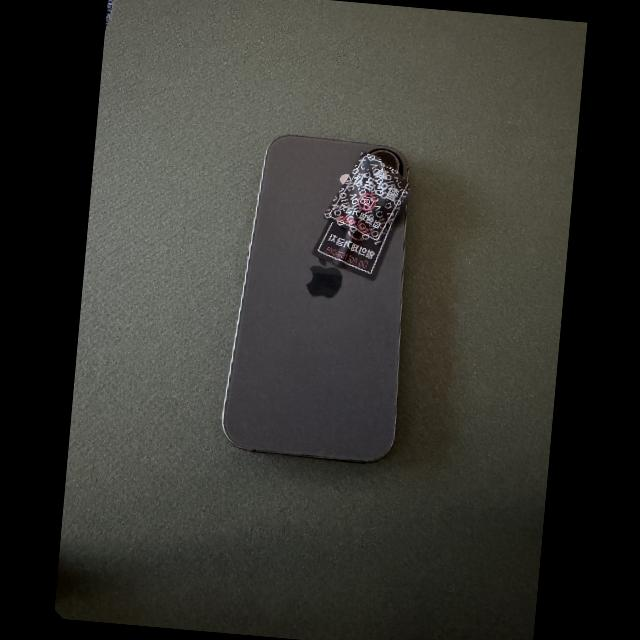lens: (371, 150, 399, 172)
phone: (222, 135, 408, 461)
sticker: (322, 151, 411, 246), (311, 196, 408, 281)
